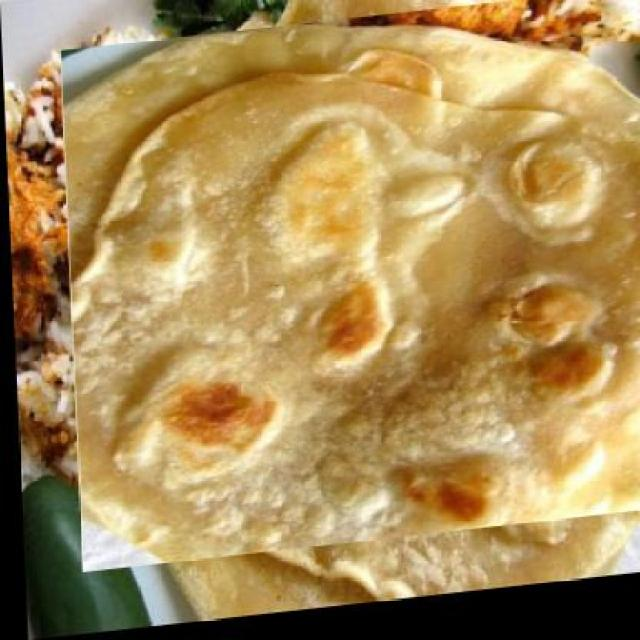chapati: (86, 0, 639, 605)
